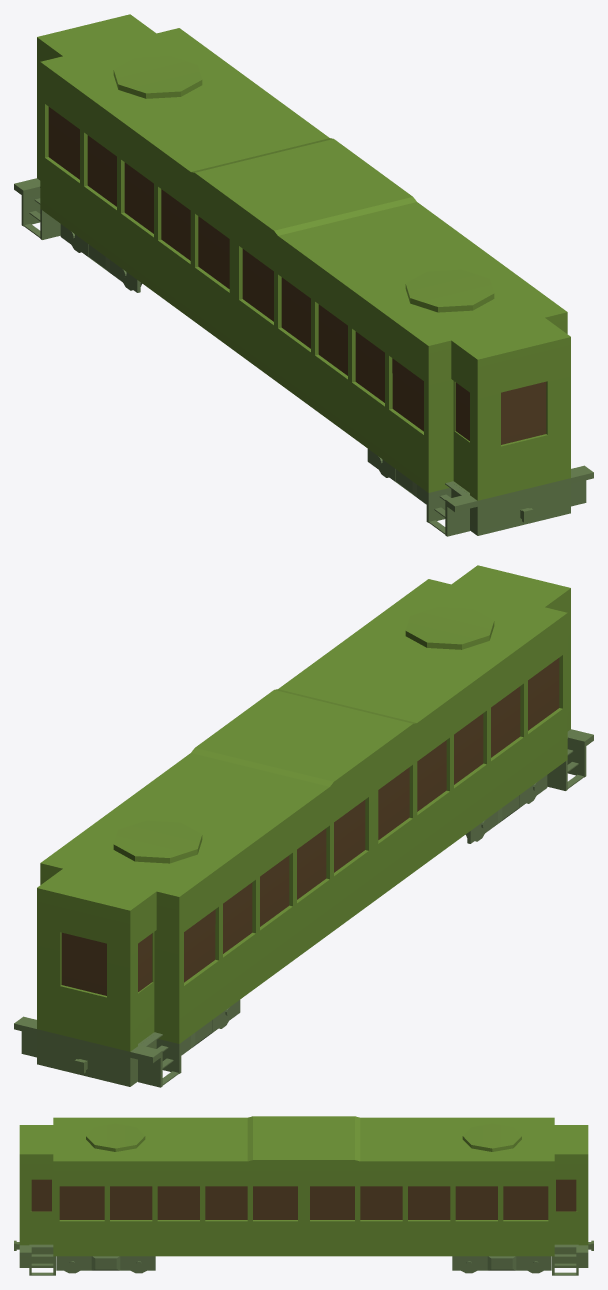
The model's file is Train_02.fbx.
3 renders of one model, top to bottom at view 1: azimuth 30°, elevation 25°; view 2: azimuth 150°, elevation 25°; view 3: azimuth 270°, elevation 25°, orthographic. The views are drawn at different scales.
Visible parts, largest first — view 1: Train_02; view 2: Train_02; view 3: Train_02.
Part boxes in pixels (left/top/right/bottom): Train_02: left=14, top=14, right=593, bottom=536; Train_02: left=14, top=565, right=593, bottom=1087; Train_02: left=14, top=1116, right=593, bottom=1275.
Bounding box in the file's own units: 3.5 × 4.55 × 19.58.
